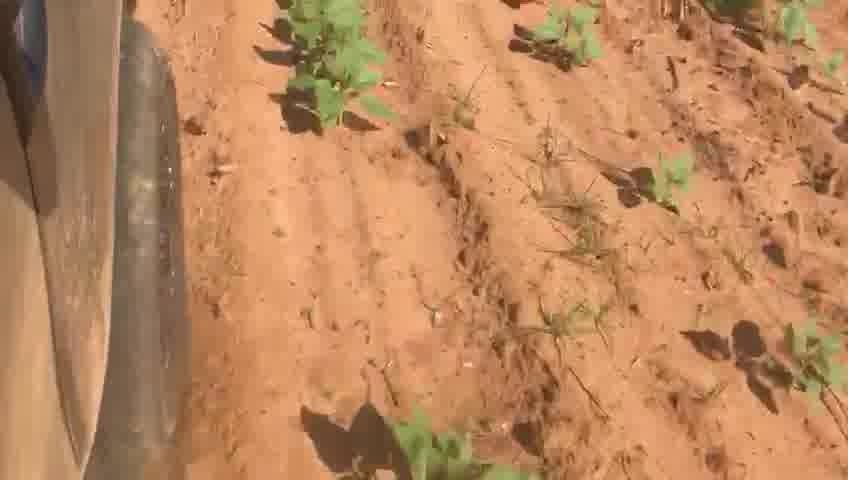sunflower: (369, 406, 541, 478), (283, 54, 394, 133), (279, 3, 380, 67), (532, 5, 606, 74), (780, 315, 837, 400), (652, 142, 705, 210)
